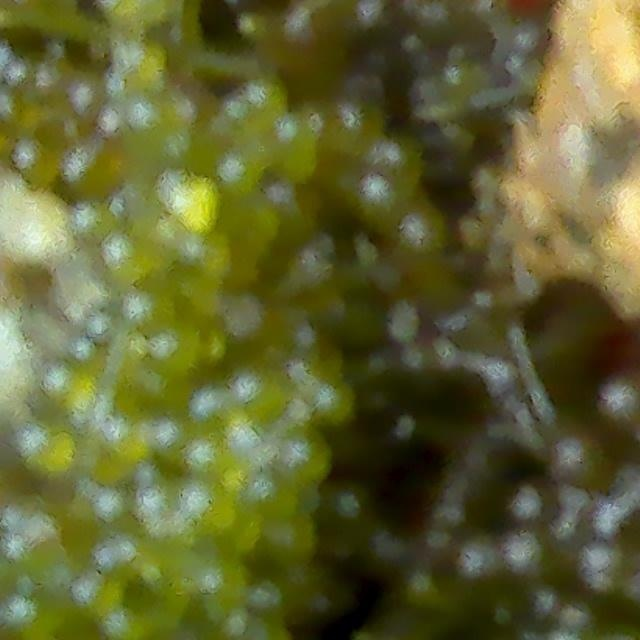SeaGrape: (4, 191, 76, 265), (25, 424, 79, 479), (40, 364, 93, 413), (553, 420, 599, 476), (102, 235, 150, 281), (453, 538, 502, 580), (73, 572, 119, 614), (606, 376, 640, 424)
